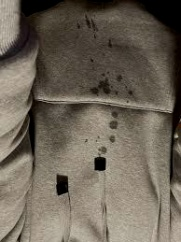oil: (74, 16, 103, 32), (91, 78, 113, 96), (97, 141, 113, 153), (110, 111, 120, 129), (83, 131, 93, 144), (108, 131, 118, 142), (108, 39, 114, 50), (117, 75, 124, 82), (91, 58, 97, 64), (122, 98, 129, 103), (129, 88, 134, 94)
